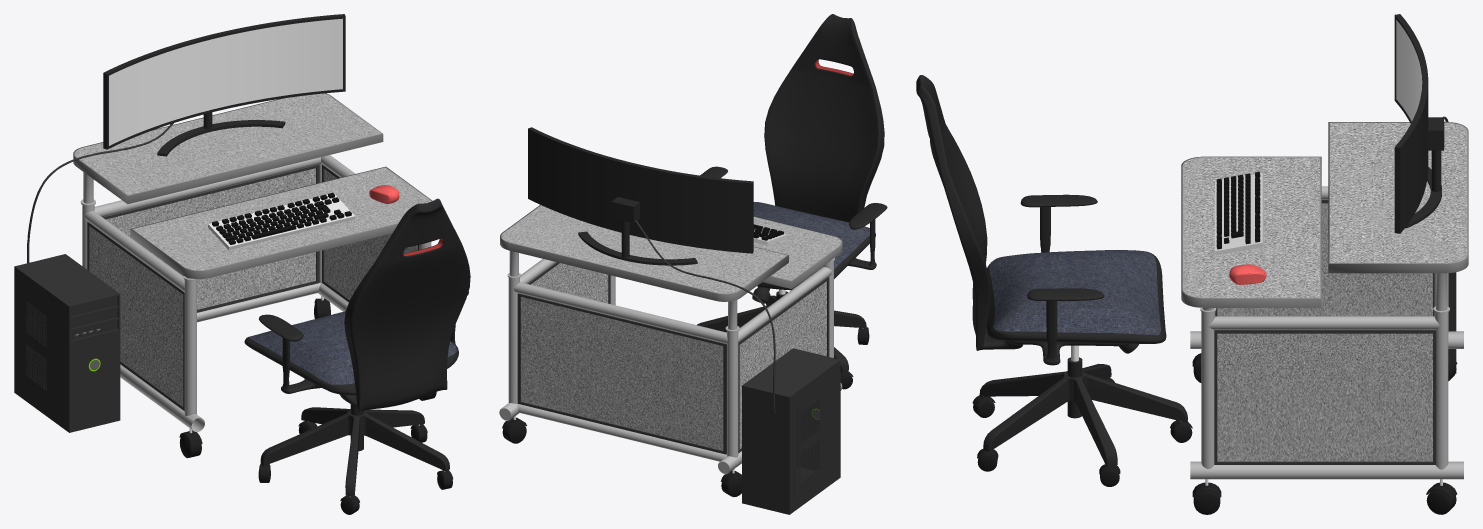
File: gaming-transformed.glb
3 renders of one model, left to right at view 1: azimuth 30°, elevation 25°; view 2: azimuth 150°, elevation 25°; view 3: azimuth 270°, elevation 25°, orthographic. The views are drawn at different scales.
Visible parts, largest first — view 1: Desk1_Masa_Ana_0, Koltuk_Chair_Plastic_0, Panel_Side_Main_0, Monitor_wallpaperScreen_0, Case_PC_kasa_0, Desk1_Table_Pipe_0, Desk1_blinn2_0, Koltuk_Ayak_Chair_Ayak_0, Monitor_Monitor_Frame_0, Koltuk_Chair_Fabric_0, Keyboard_Keyboard_Keys_0, Panel_Side_Frame_0 (+4 smaller); view 2: Panel_Side_Main_0, Koltuk_Chair_Plastic_0, Monitor_Monitor_Frame_0, Case_PC_kasa_0, Desk1_Masa_Ana_0, Desk1_Table_Pipe_0, Desk1_blinn2_0, Panel_Side_Frame_0, Desk1_lambert2_0, Koltuk_Chair_Fabric_0, Koltuk_Ayak_Chair_Ayak_0, Wheel4_Teker_0 (+1 smaller); view 3: Panel_Side_Main_0, Desk1_Masa_Ana_0, Koltuk_Chair_Plastic_0, Desk1_Table_Pipe_0, Koltuk_Chair_Fabric_0, Koltuk_Ayak_Chair_Ayak_0, Monitor_Monitor_Frame_0, Desk1_blinn2_0, Wheel4_Teker_0, Panel_Side_Frame_0, Keyboard_Keyboard_Keys_0, Keyboard_Keyboard_Main_0 (+2 smaller).
Boxes of the visible parts, x1=… form: Desk1_Masa_Ana_0: x1=74, y1=93, x2=431, y2=270; Koltuk_Chair_Plastic_0: x1=244, y1=198, x2=470, y2=412; Panel_Side_Main_0: x1=89, y1=168, x2=417, y2=406; Monitor_wallpaperScreen_0: x1=109, y1=18, x2=342, y2=145; Case_PC_kasa_0: x1=14, y1=254, x2=120, y2=432; Desk1_Table_Pipe_0: x1=80, y1=155, x2=431, y2=431; Desk1_blinn2_0: x1=73, y1=93, x2=432, y2=279; Koltuk_Ayak_Chair_Ayak_0: x1=260, y1=404, x2=449, y2=495; Monitor_Monitor_Frame_0: x1=103, y1=14, x2=345, y2=156; Koltuk_Chair_Fabric_0: x1=248, y1=311, x2=456, y2=384; Keyboard_Keyboard_Keys_0: x1=212, y1=192, x2=351, y2=244; Panel_Side_Frame_0: x1=87, y1=164, x2=419, y2=410; Panel_Side_Main_0: x1=521, y1=263, x2=826, y2=450; Koltuk_Chair_Plastic_0: x1=700, y1=14, x2=887, y2=303; Monitor_Monitor_Frame_0: x1=528, y1=127, x2=753, y2=265; Case_PC_kasa_0: x1=742, y1=348, x2=840, y2=514; Desk1_Masa_Ana_0: x1=501, y1=205, x2=840, y2=293; Desk1_Table_Pipe_0: x1=499, y1=251, x2=842, y2=474; Desk1_blinn2_0: x1=500, y1=205, x2=842, y2=301; Panel_Side_Frame_0: x1=517, y1=262, x2=829, y2=454; Desk1_lambert2_0: x1=513, y1=282, x2=727, y2=343; Koltuk_Chair_Fabric_0: x1=753, y1=202, x2=869, y2=280; Koltuk_Ayak_Chair_Ayak_0: x1=697, y1=291, x2=866, y2=372; Wheel4_Teker_0: x1=502, y1=327, x2=869, y2=496; Panel_Side_Main_0: x1=1217, y1=203, x2=1432, y2=461; Desk1_Masa_Ana_0: x1=1183, y1=122, x2=1466, y2=297; Koltuk_Chair_Plastic_0: x1=916, y1=75, x2=1166, y2=365; Desk1_Table_Pipe_0: x1=1190, y1=186, x2=1463, y2=479; Koltuk_Chair_Fabric_0: x1=989, y1=250, x2=1160, y2=335; Koltuk_Ayak_Chair_Ayak_0: x1=979, y1=345, x2=1187, y2=466; Monitor_Monitor_Frame_0: x1=1394, y1=14, x2=1444, y2=233; Desk1_blinn2_0: x1=1181, y1=122, x2=1468, y2=307; Wheel4_Teker_0: x1=972, y1=353, x2=1457, y2=514; Panel_Side_Frame_0: x1=1214, y1=200, x2=1435, y2=464; Keyboard_Keyboard_Keys_0: x1=1216, y1=171, x2=1260, y2=249; Keyboard_Keyboard_Main_0: x1=1215, y1=173, x2=1264, y2=255.
Bounding box in the file's own units: 27.51 × 27.1 × 37.
Materials: 22 (3 with a texture image).
